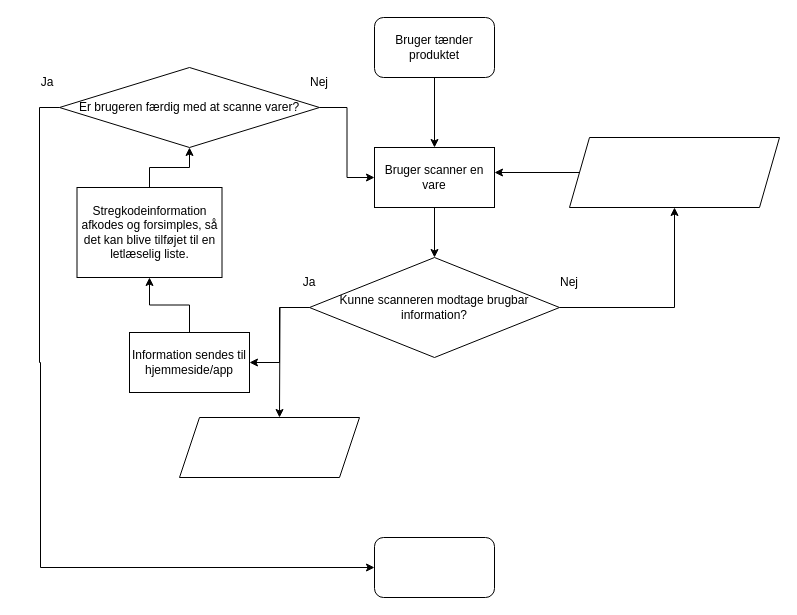
The diagram is 797 pixels wide and 615 high, and some of its shapes have lost their labels. Here are the shapes that lost their labels. From the top down, the box of each, then its label:
(568, 136, 780, 208): En lyd afspilles for at indikere fejl
(178, 416, 360, 478): Lyd afspilles for at indikere succes
(374, 536, 494, 598): Brugeren slukker produktet
